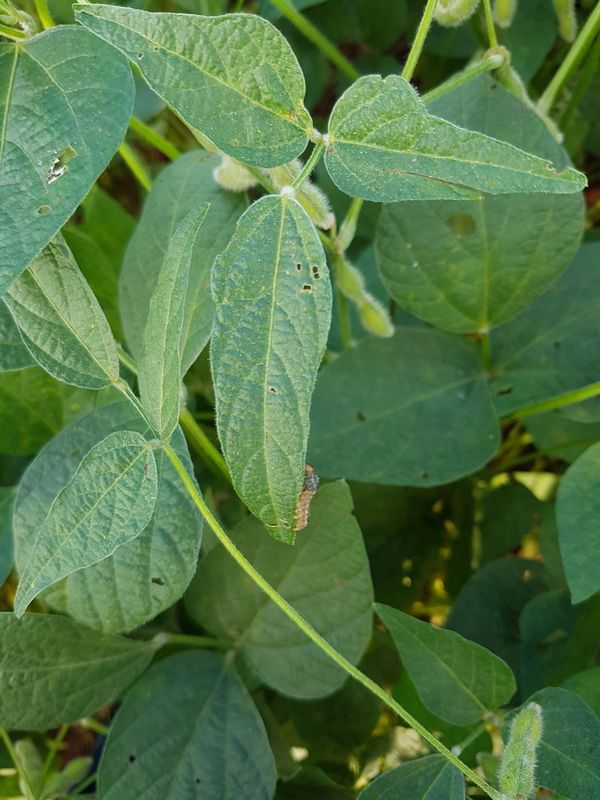Spodoptera_albula: (278, 457, 335, 539)
